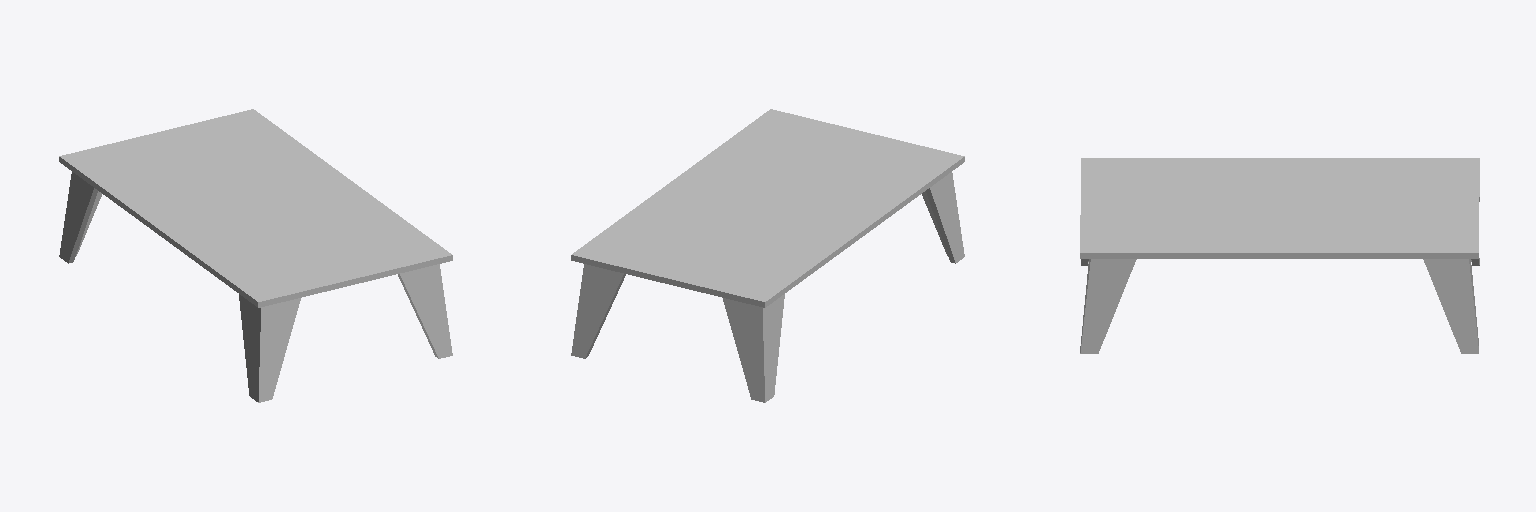
The model's file is table.obj.
3 views of the same model, side by side, from view 1: azimuth 30°, elevation 25°; view 2: azimuth 150°, elevation 25°; view 3: azimuth 270°, elevation 25° (orthographic).
Parts seen in each view (by area): view 1: Box001.000; view 2: Box001.000; view 3: Box001.000.
Boxes of the visible parts, <box> form: Box001.000: <box>59,109,452,402</box>; Box001.000: <box>571,109,964,402</box>; Box001.000: <box>1080,158,1479,353</box>.
Bounding box in the file's own units: 58.21 × 28.81 × 103.